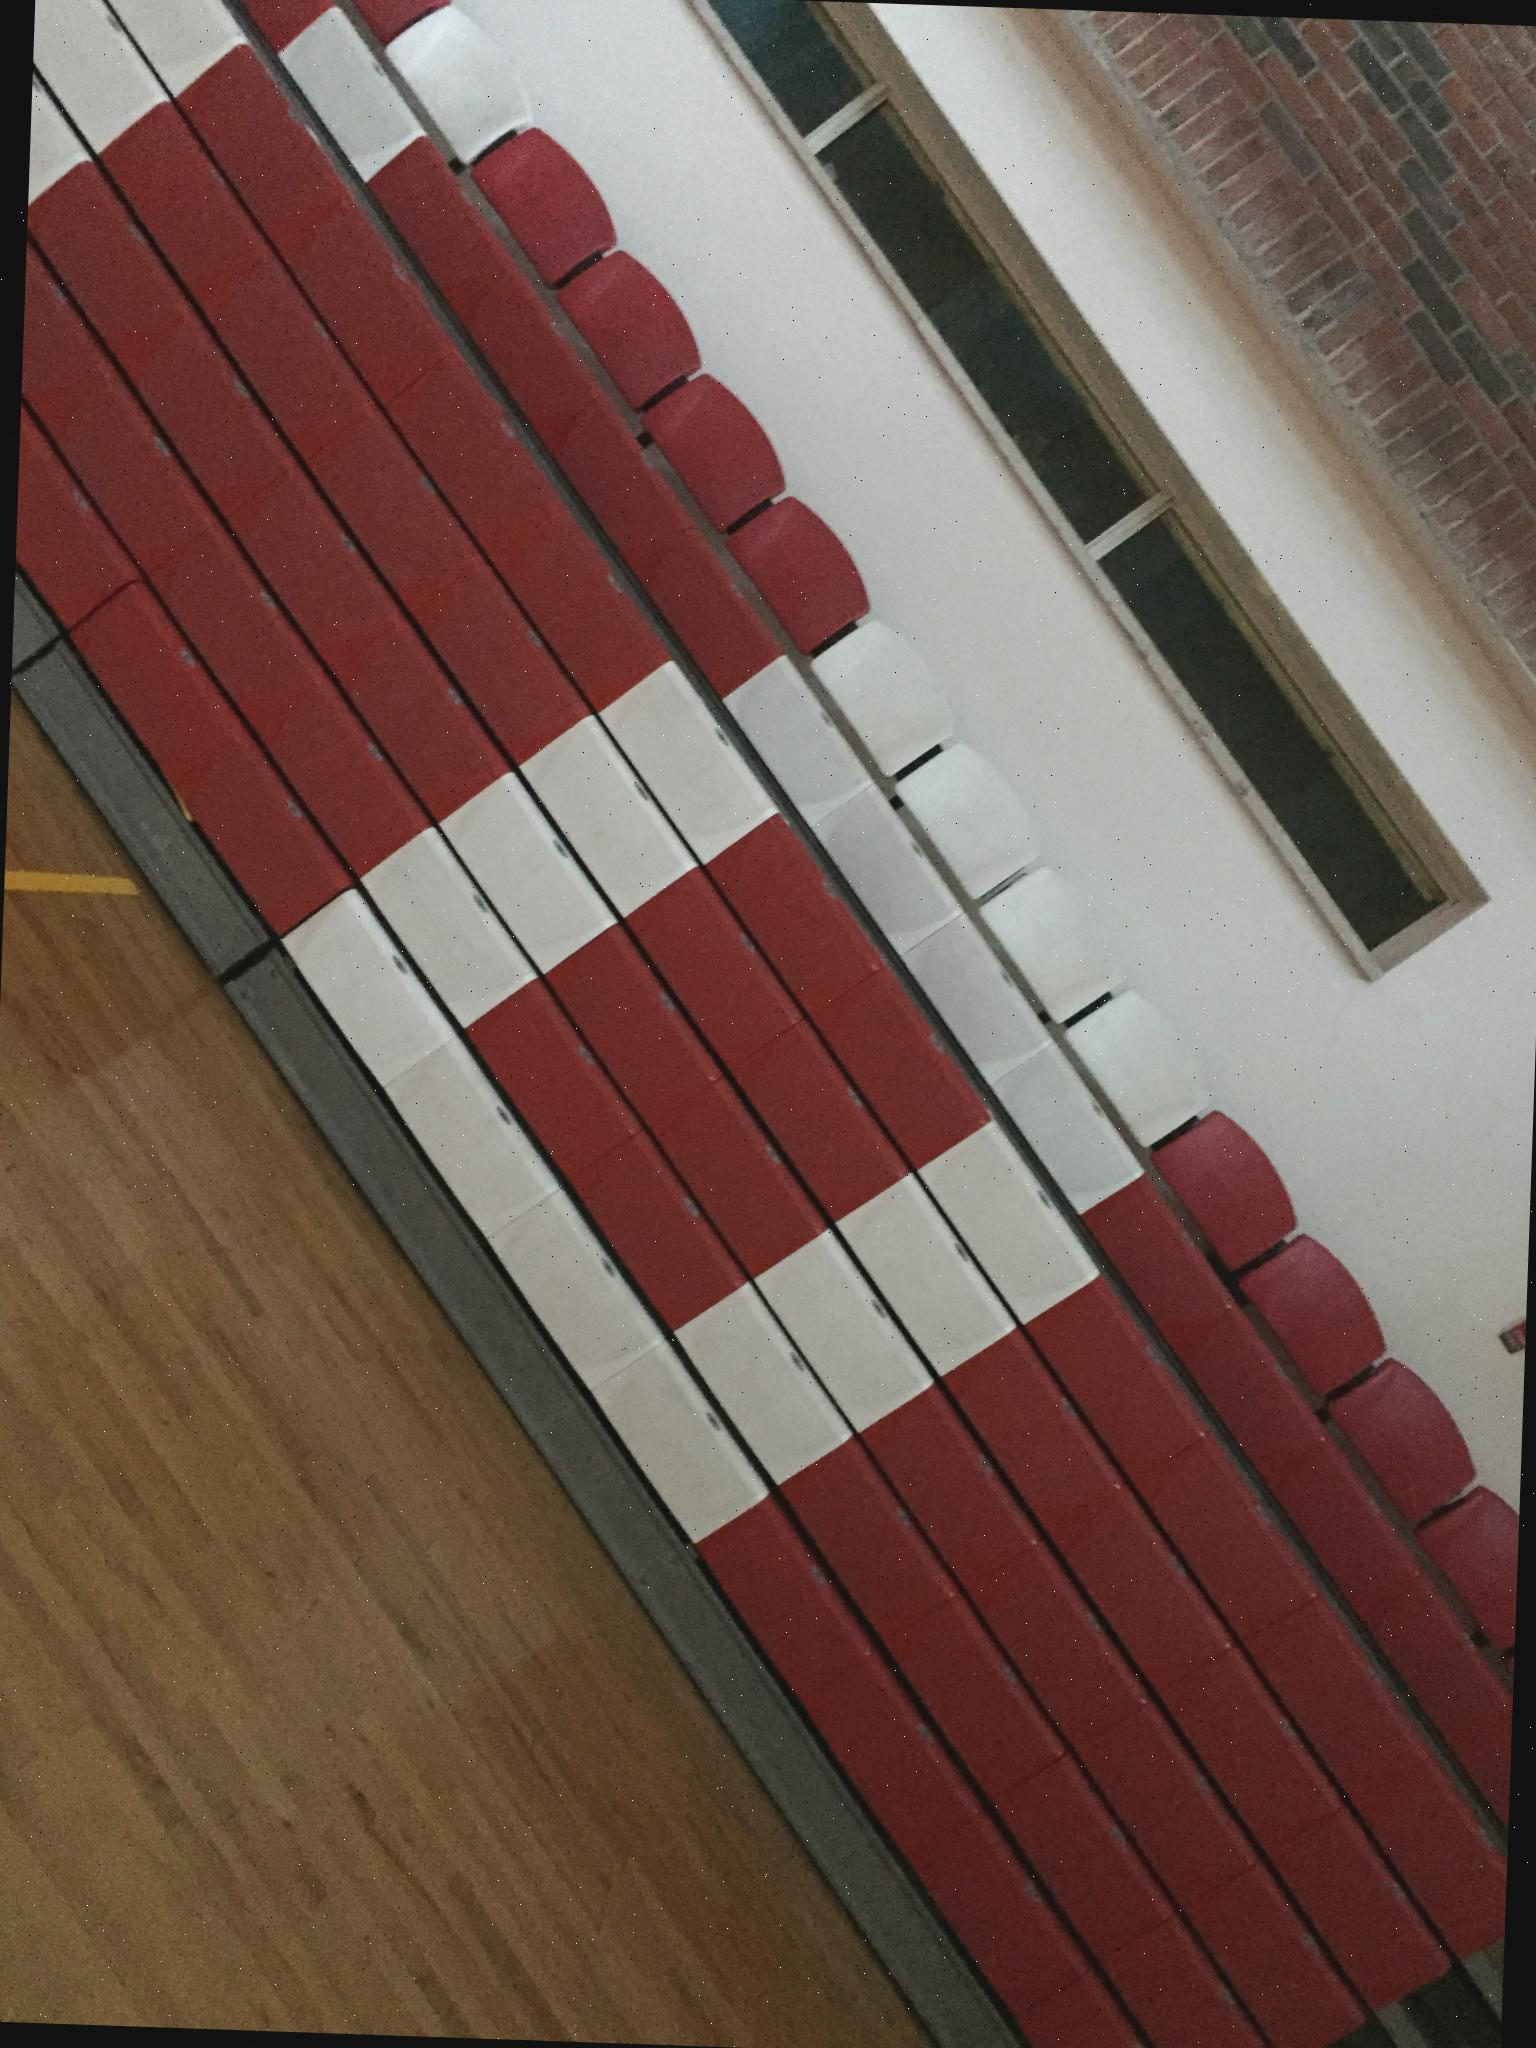chair: (1154, 1145, 1312, 1287), (813, 637, 954, 768), (718, 534, 897, 634), (1354, 1371, 1471, 1514), (486, 148, 615, 273), (1084, 992, 1192, 1132), (1013, 851, 1102, 1019), (653, 431, 815, 516), (1430, 1500, 1520, 1637), (1263, 1255, 1359, 1384), (390, 39, 516, 129), (582, 308, 705, 385), (954, 755, 984, 889)
